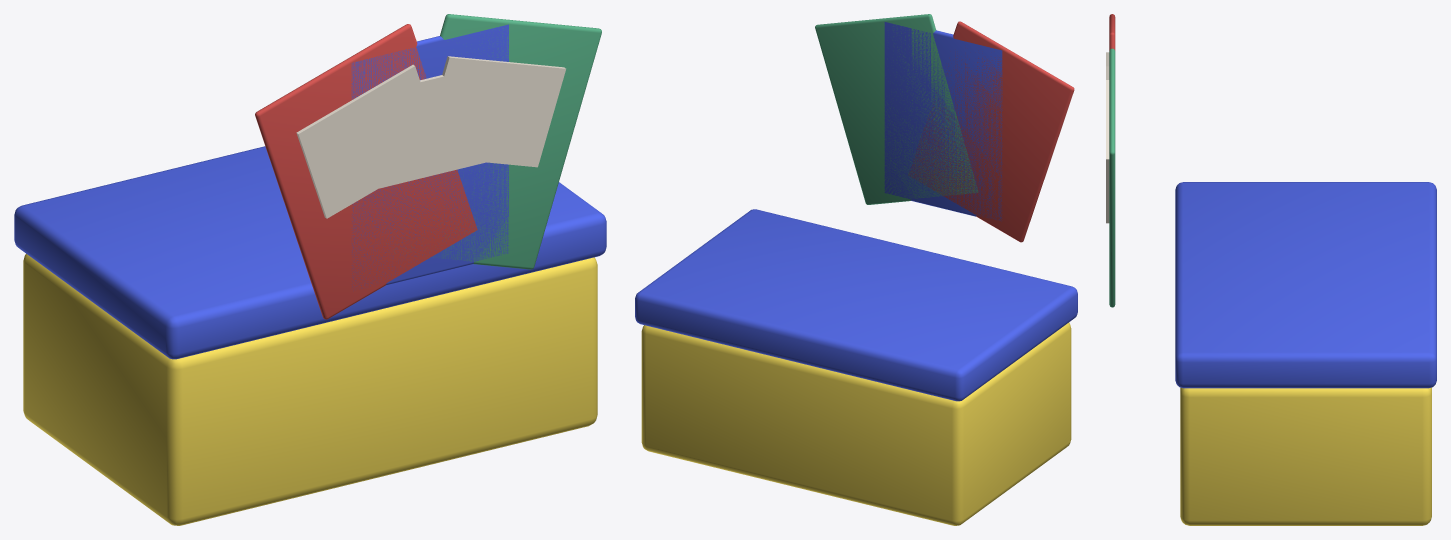
Rendered from cards.glb.
3 renders of one model, left to right at view 1: azimuth 30°, elevation 25°; view 2: azimuth 150°, elevation 25°; view 3: azimuth 270°, elevation 25°, orthographic. The views are drawn at different scales.
Visible parts, largest first — view 1: boxb, boxlid, card0, card2, art0, card1, art1, art2; view 2: boxb, boxlid, card1, card0, card2; view 3: boxlid, boxb, card2, art2.
Boxes of the visible parts, box(x1,y1,x2,y2) form: boxb: box(23, 254, 597, 525); boxlid: box(14, 146, 606, 359); card0: box(255, 24, 477, 319); card2: box(433, 14, 601, 269); art0: box(296, 64, 443, 218); card1: box(351, 24, 508, 288); art1: box(371, 64, 493, 189); art2: box(421, 56, 565, 167); boxb: box(641, 322, 1071, 525); boxlid: box(635, 209, 1077, 401); card1: box(884, 22, 1002, 221); card0: box(908, 21, 1074, 242); card2: box(815, 14, 978, 204); boxlid: box(1175, 182, 1436, 388); boxb: box(1180, 387, 1431, 525); card2: box(1109, 48, 1115, 307); art2: box(1106, 80, 1109, 223).
Bounding box in the file's own units: 0.43 × 0.4585 × 0.3415.
